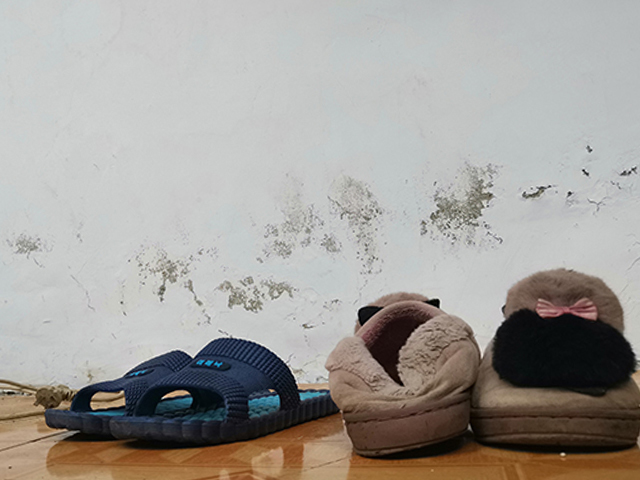slippers: (480, 266, 639, 453), (320, 290, 477, 459), (126, 339, 342, 449), (40, 351, 196, 433)
wire: (1, 376, 76, 422)
